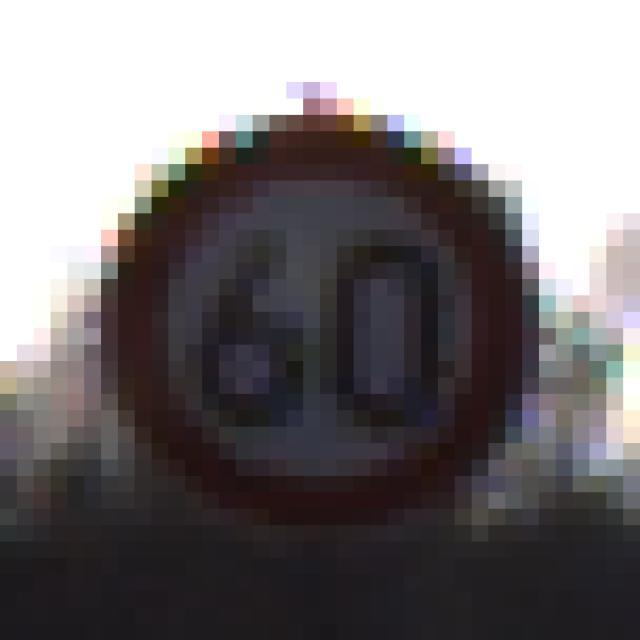Ograniczenie predkosci do 60: (108, 127, 519, 522)
